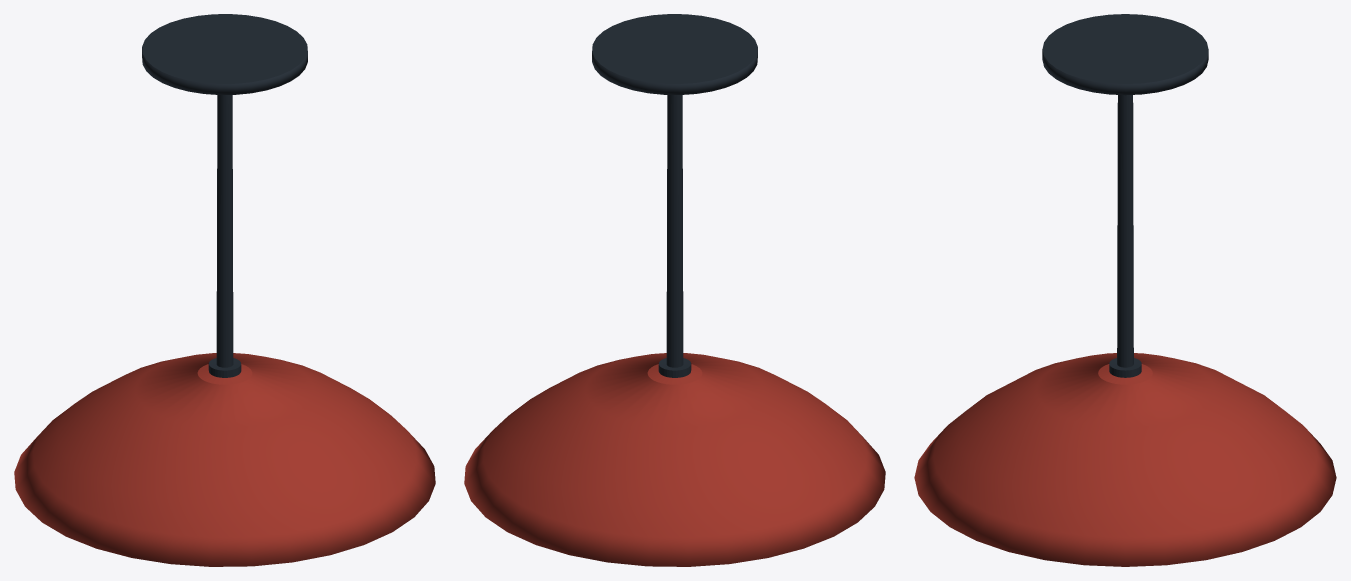
File: hanging_lamp.fbx
3 views of the same model, side by side, from view 1: azimuth 30°, elevation 25°; view 2: azimuth 150°, elevation 25°; view 3: azimuth 270°, elevation 25° (orthographic).
Parts seen in each view (by area): view 1: hanging_lamp; view 2: hanging_lamp; view 3: hanging_lamp.
Boxes of the visible parts, x1,y1,x2,y2 form: hanging_lamp: [14, 14, 435, 566]; hanging_lamp: [464, 14, 885, 566]; hanging_lamp: [914, 14, 1336, 566].
Size of the model in its own units: 269 by 319 by 269.
